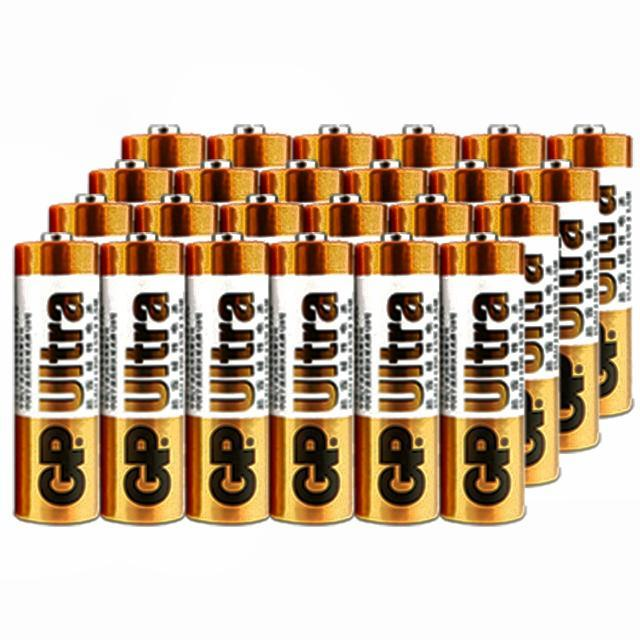battery: (100, 232, 185, 524), (270, 232, 355, 524), (355, 232, 440, 524), (440, 232, 525, 524), (475, 194, 560, 485), (15, 232, 99, 524), (515, 160, 599, 451), (548, 126, 632, 416), (186, 232, 269, 523), (135, 194, 218, 239), (220, 194, 302, 239), (305, 194, 386, 239), (390, 194, 472, 238), (50, 194, 132, 237), (376, 132, 460, 168), (292, 132, 376, 168), (462, 132, 545, 168), (208, 132, 291, 168), (122, 132, 205, 168), (260, 168, 344, 202), (89, 168, 172, 202), (175, 168, 258, 202), (344, 168, 426, 202), (430, 168, 512, 202)
